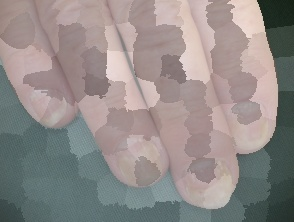Nail_psoriasis: (110, 135, 172, 193), (217, 93, 276, 151), (179, 157, 234, 208), (27, 84, 68, 126)
